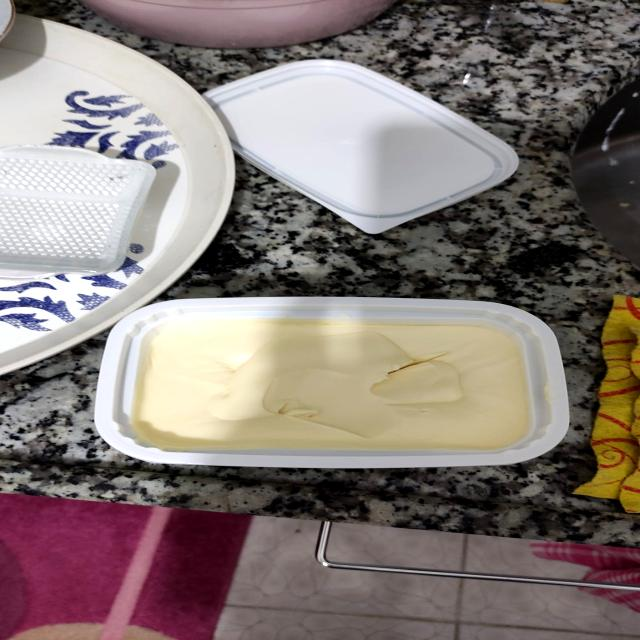margarine: (85, 298, 583, 469)
